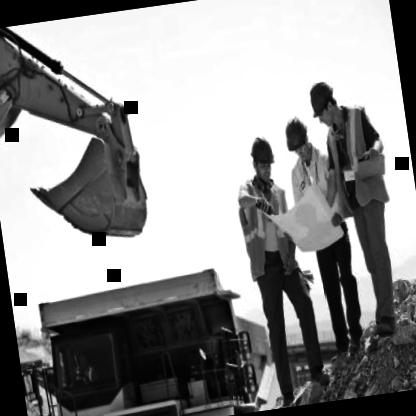helmet: (305, 75, 344, 131), (244, 132, 280, 186), (283, 110, 315, 162)
